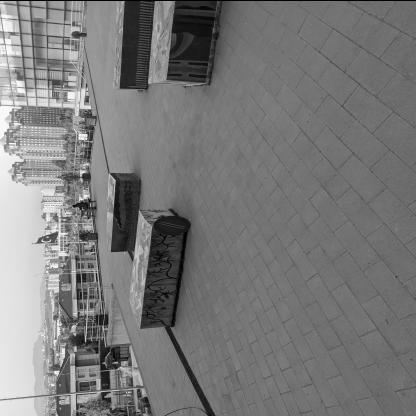No Waiting: (154, 216, 192, 236)
